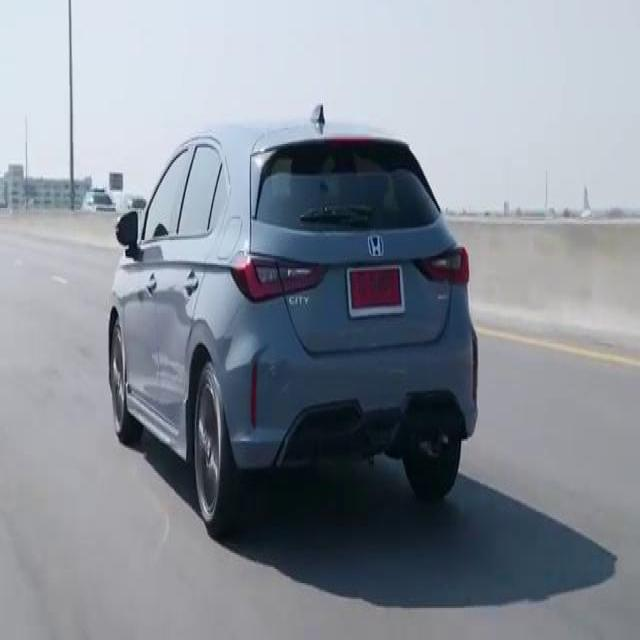Hatchback: (108, 105, 478, 535)
